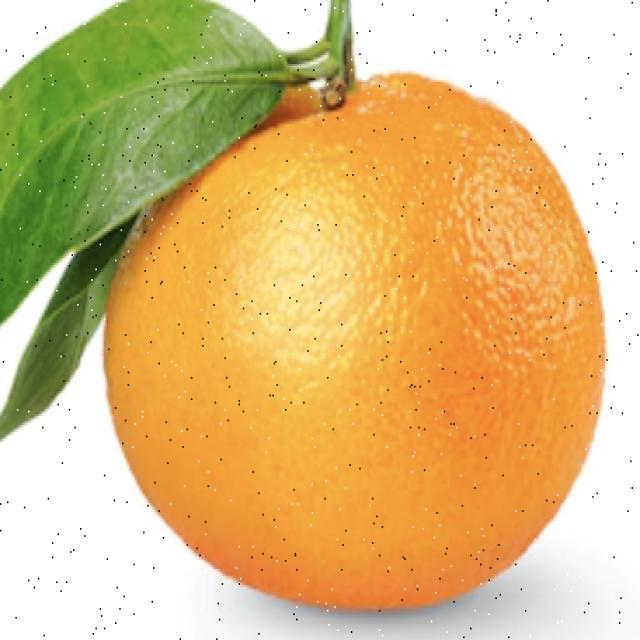Orange: (101, 70, 606, 612)
